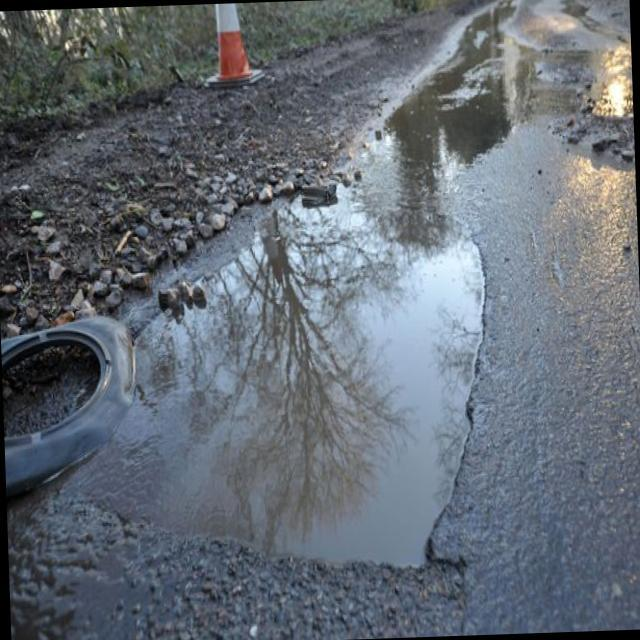Pothole: (1, 0, 558, 640)
